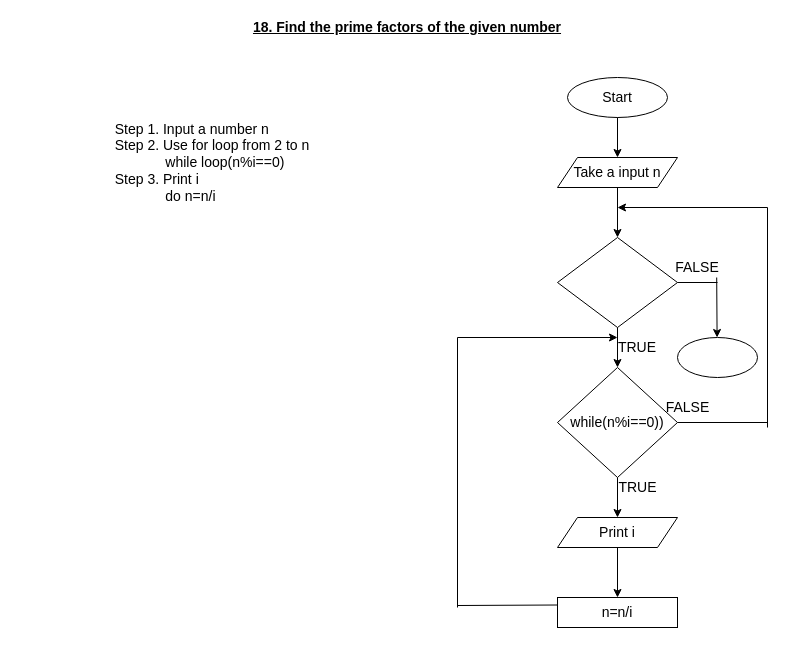
Some shapes in this 793 by 645 pixel diagram are drawn without their labels. The shapes that lost their labels are listed below. From the top down, each one's centre as x and y in pixels, then its label:
At pixel 617 282: "for(i=2;i<=n;i++)".
At pixel 717 357: "Stop".
